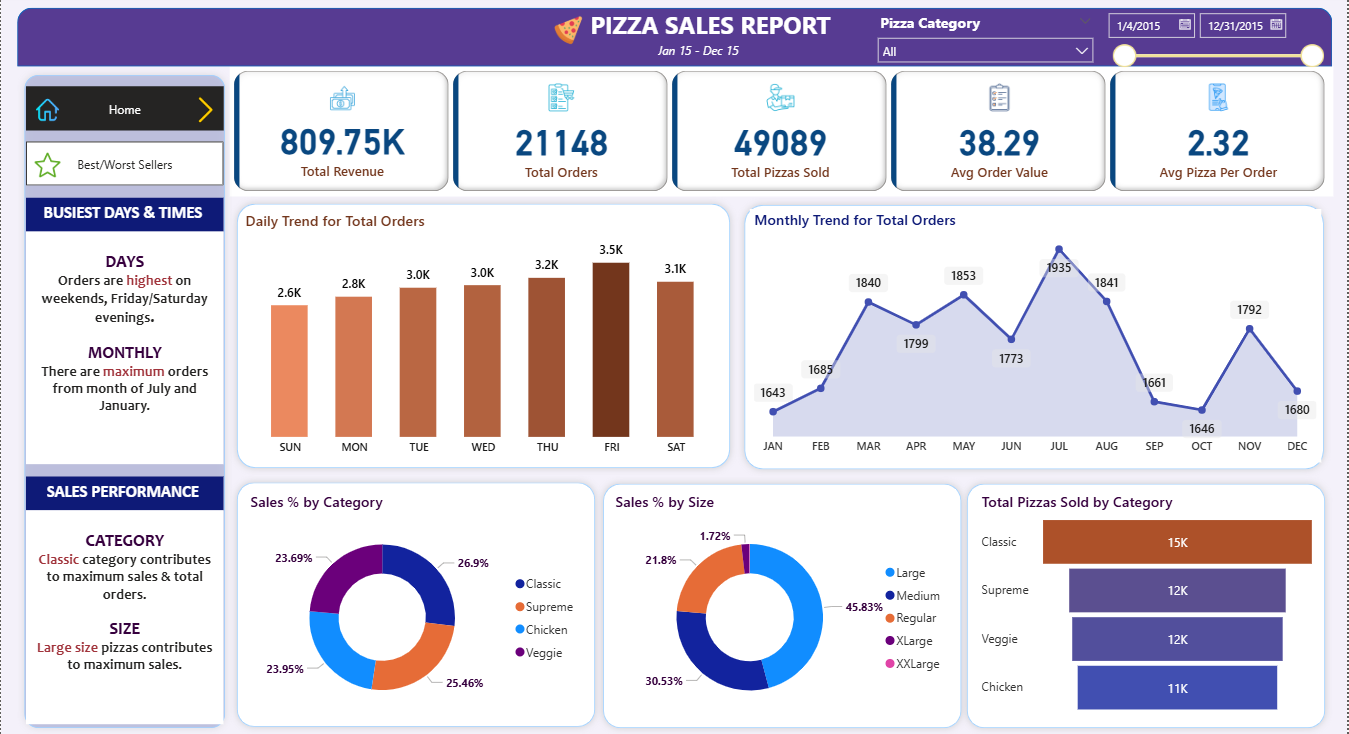

What the dashboard file says about the page in this screenshot:
{"tool":"powerbi","page":{"name":"Home","canvas":[1500,820],"ordinal":0},"visuals":[{"type":"cardVisual","fields":{"Data":["Order Items.Total Revenue","Order Items.Total Orders","Order Items.Total Pizzas Sold","Order Items.Avg Order Value","Order Items.Avg Pizza Per Order"]},"box":[254.9,75.2,1229.7,144.8],"z":0},{"type":"shape","box":[18.1,9.7,1465.1,65.5],"z":1000},{"type":"shape","box":[18.1,76.6,239.5,743.7],"z":2000},{"type":"textbox","box":[642,5.6,296.6,50.1],"z":3000},{"type":"textbox","box":[727,43.2,117,37.6],"z":4000},{"type":"image","box":[607.2,13.9,50.1,41.8],"z":5000},{"type":"shape","box":[254.9,220,565.4,310.6],"z":6000},{"type":"columnChart","title":"Daily Trend for Total Orders","fields":{"Category":["Orders.Order Day"],"Y":["Order Items.Total Orders"]},"box":[267.4,235.4,540.4,282.7],"z":7000},{"type":"shape","box":[820.3,221.4,661.5,310.6],"z":8000},{"type":"areaChart","title":"Monthly Trend for Total Orders","fields":{"Category":["Orders.Order Month"],"Y":["Order Items.Total Orders"]},"box":[834.2,234,636.5,282.7],"z":9000},{"type":"shape","box":[254.9,530.6,415,288.3],"z":10000},{"type":"shape","box":[1068.2,532,415,288.3],"z":11000},{"type":"shape","box":[662.9,532,415,288.3],"z":12000},{"type":"donutChart","title":"Sales % by Category","fields":{"Y":["Order Items.Total Revenue"],"Category":["Pizza Types.pizza_category"]},"box":[273,548.7,378.8,259],"z":13000},{"type":"donutChart","title":"Sales % by Size","fields":{"Y":["Order Items.Total Revenue"],"Category":["Pizzas.pizza_size"]},"box":[679.6,548.7,381.6,259],"z":14000},{"type":"funnel","title":"Total Pizzas Sold by Category","fields":{"Y":["Order Items.Total Pizzas Sold"],"Category":["Pizza Types.pizza_category"]},"box":[1087.7,548.7,383,253.5],"z":15000},{"type":"textbox","box":[27.9,221.4,220,37.6],"z":16000},{"type":"textbox","box":[27.9,259,220,259],"z":17000},{"type":"textbox","box":[27.9,532,220,37.6],"z":18000},{"type":"textbox","box":[27.9,569.6,220,238.1],"z":19000},{"type":"slicer","fields":{"Values":["Pizzas.pizza_category"]},"box":[966.5,9.7,260.4,65.5],"z":20000},{"type":"slicer","fields":{"Values":["Orders.order_date"]},"box":[1221.4,5.6,260.4,75.2],"z":21000},{"type":"pageNavigator","box":[27.3,98.1,220.3,49.9],"z":22000},{"type":"pageNavigator","box":[27.3,159.2,220.3,49.9],"z":23000},{"type":"image","box":[209,99.7,38.6,46.6],"z":24000},{"type":"image","box":[27.3,106.1,48.2,35.4],"z":25000},{"type":"image","box":[27.3,165.6,48.2,38.6],"z":26000}]}

Visuals, with their boxes in screenshot pixels (x1, y1, x2, y2), scaled from the page's 1500x820 canvas onto the 1349x734 screenshot:
cardVisual - Order Items.Total Revenue x Order Items.Total Orders: [229, 67, 1335, 197]
shape: [16, 9, 1334, 67]
shape: [16, 69, 232, 733]
textbox: [577, 5, 844, 50]
textbox: [654, 39, 759, 72]
image: [546, 12, 591, 50]
shape: [229, 197, 738, 475]
"Daily Trend for Total Orders" columnChart: [240, 211, 726, 464]
shape: [738, 198, 1333, 476]
"Monthly Trend for Total Orders" areaChart: [750, 209, 1323, 463]
shape: [229, 475, 602, 733]
shape: [961, 476, 1334, 733]
shape: [596, 476, 969, 733]
"Sales % by Category" donutChart: [246, 491, 586, 723]
"Sales % by Size" donutChart: [611, 491, 954, 723]
"Total Pizzas Sold by Category" funnel: [978, 491, 1323, 718]
textbox: [25, 198, 223, 232]
textbox: [25, 232, 223, 464]
textbox: [25, 476, 223, 510]
textbox: [25, 510, 223, 723]
slicer - Pizzas.pizza_category: [869, 9, 1103, 67]
slicer - Orders.order_date: [1098, 5, 1333, 72]
pageNavigator: [25, 88, 223, 132]
pageNavigator: [25, 143, 223, 187]
image: [188, 89, 223, 131]
image: [25, 95, 68, 127]
image: [25, 148, 68, 183]
